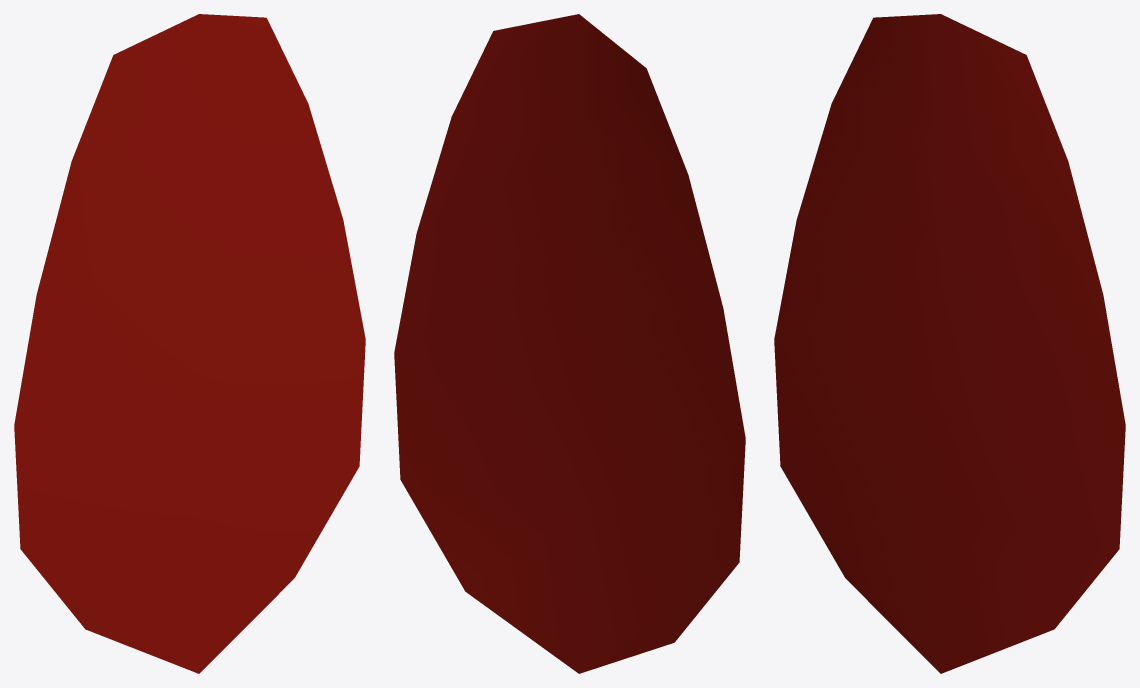
File: ara_feather_flight_tertiary_003.obj
The picture shows the model from 3 angles, left to right: view 1: azimuth 30°, elevation 25°; view 2: azimuth 150°, elevation 25°; view 3: azimuth 330°, elevation 25°; orthographic projection.
Parts seen in each view (by area): view 1: feather_flight_tertiary_003; view 2: feather_flight_tertiary_003; view 3: feather_flight_tertiary_003.
Boxes of the visible parts, <box> form: feather_flight_tertiary_003: <box>14,14,365,673</box>; feather_flight_tertiary_003: <box>394,14,745,673</box>; feather_flight_tertiary_003: <box>774,14,1125,673</box>.
Bounding box in the file's own units: 0.0162 × 0.029 × 0.000724.
